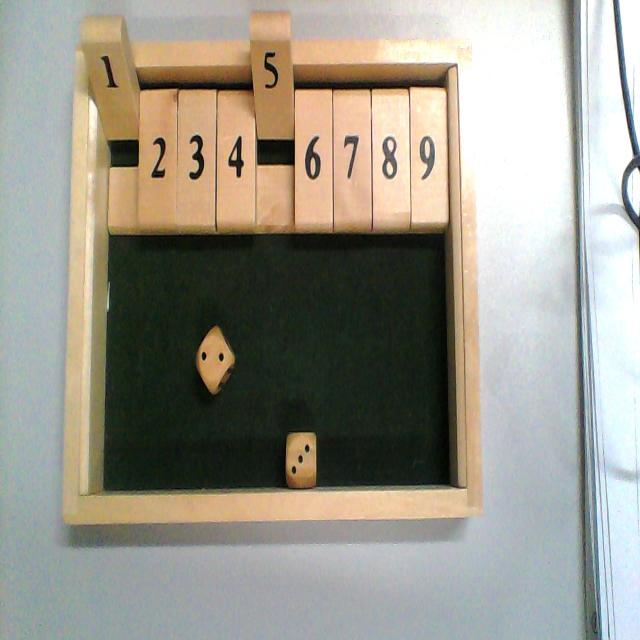2: (192, 320, 240, 398)
3: (282, 420, 322, 498)
C2: (138, 41, 179, 234)
C3: (179, 42, 217, 234)
C4: (217, 42, 254, 234)
C6: (293, 44, 333, 234)
C7: (334, 41, 372, 230)
C8: (373, 38, 411, 231)
C9: (410, 39, 450, 231)
O1: (81, 14, 138, 231)
O5: (252, 9, 294, 230)
